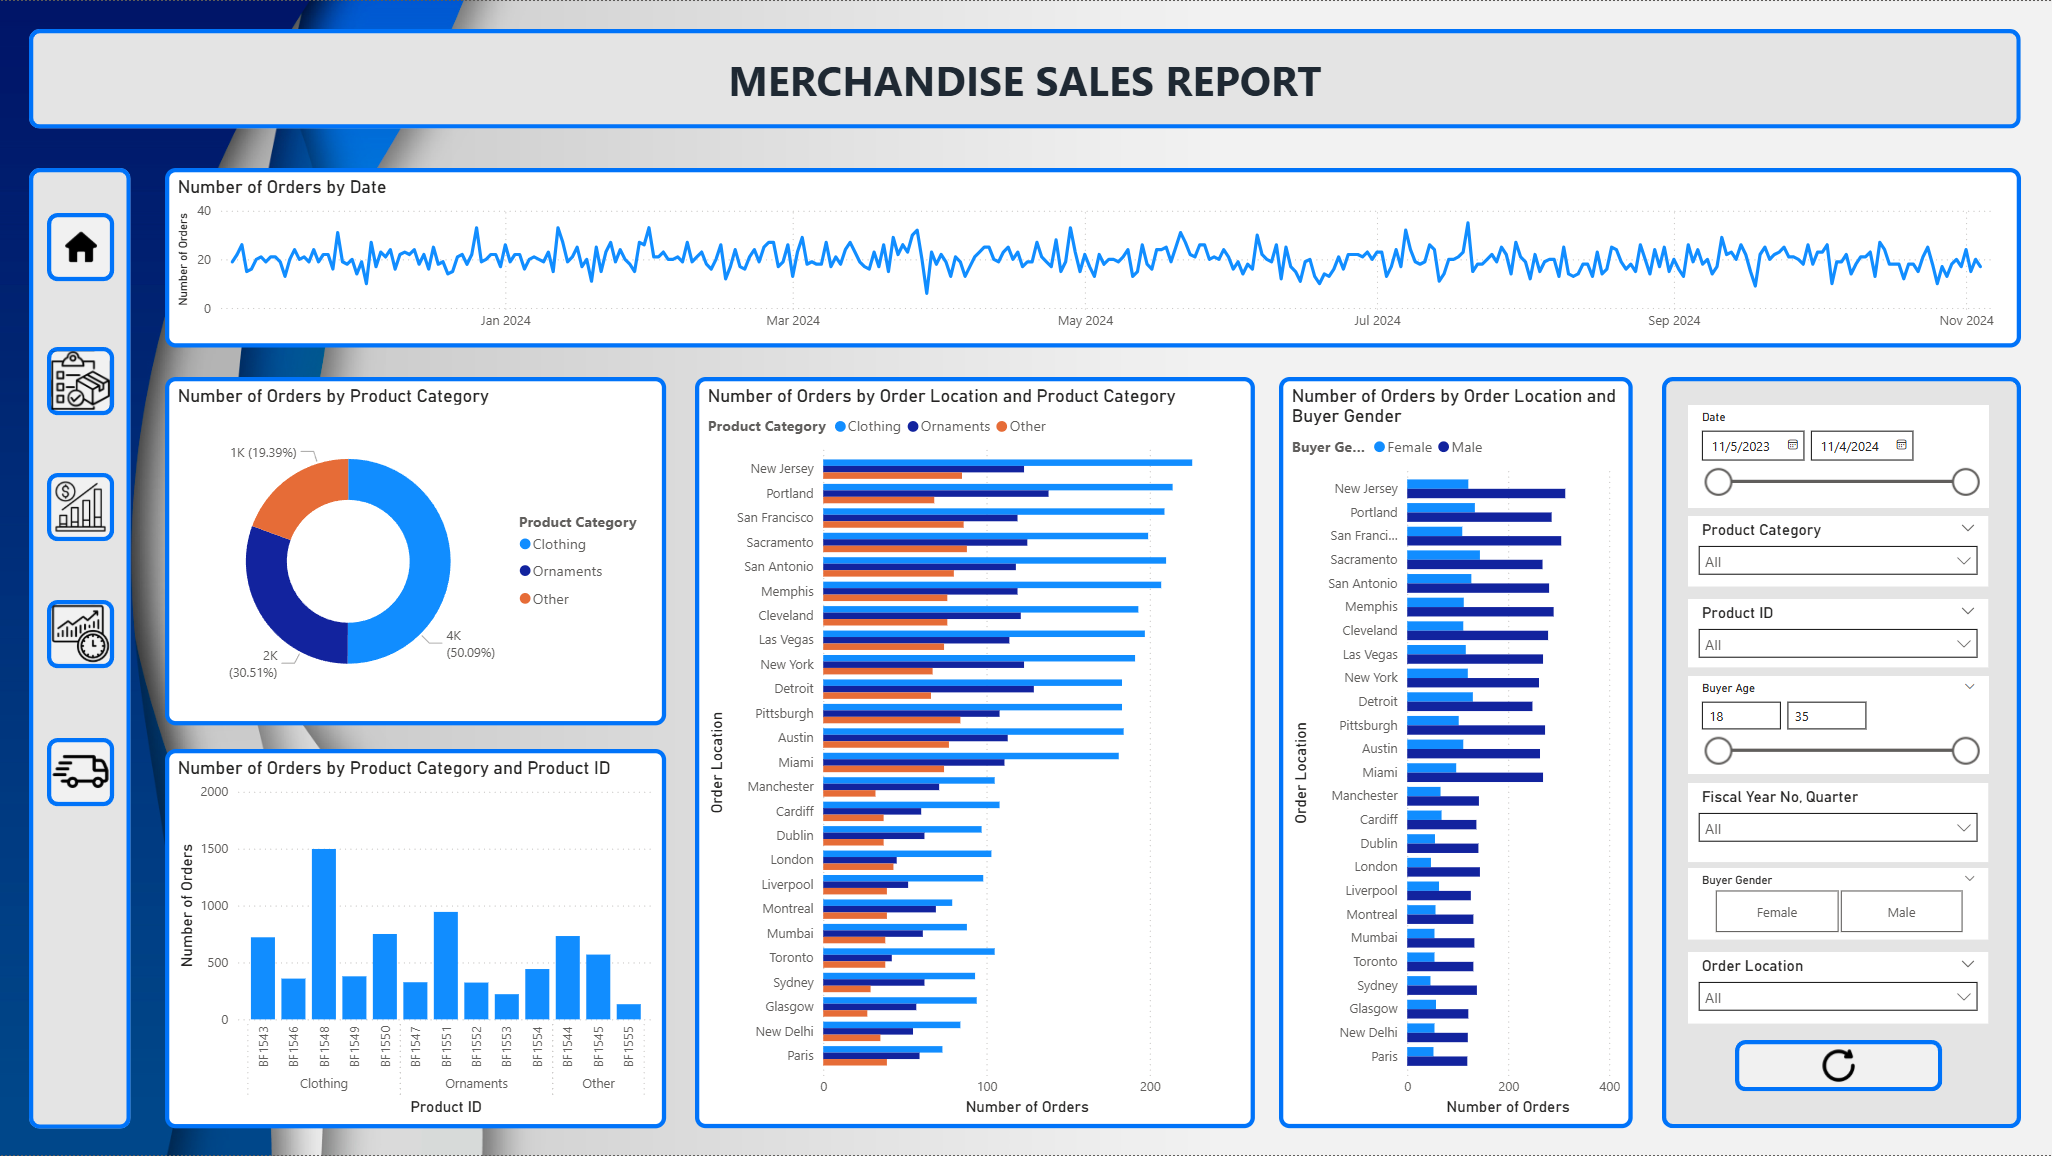

What the dashboard file says about the page in this screenshot:
{"tool":"powerbi","page":{"name":"Home","canvas":[1920,1080],"ordinal":0},"visuals":[{"type":"shape","box":[27.5,26.5,1864,93.3],"z":0},{"type":"shape","box":[27.5,156.1,95.2,899.1],"z":1000},{"type":"actionButton","box":[44.2,198.3,62.8,63.8],"z":2000},{"type":"actionButton","box":[44.2,323.9,62.8,63.8],"z":3000},{"type":"actionButton","box":[44.2,441.7,62.8,63.8],"z":4000},{"type":"actionButton","box":[44.2,560.5,62.8,63.8],"z":5000},{"type":"actionButton","box":[44.2,690.1,62.8,63.8],"z":6000},{"type":"lineChart","fields":{"Category":["Calendar_454.Date"],"Y":["Sales.Number of Orders"]},"box":[154,156,1737,168],"z":7000},{"type":"donutChart","fields":{"Category":["Sales.Product Category"],"Y":["Sales.Number of Orders"]},"box":[154,352,469,326],"z":8000},{"type":"clusteredColumnChart","fields":{"Category":["Sales.Product Category","Sales.Product ID"],"Y":["Sales.Number of Orders"]},"box":[154,700,469,355],"z":9000},{"type":"clusteredBarChart","fields":{"Category":["Sales.Order Location"],"Series":["Sales.Product Category"],"Y":["Sales.Number of Orders"]},"box":[650,352,524,703],"z":10000},{"type":"clusteredBarChart","fields":{"Category":["Sales.Order Location"],"Y":["Sales.Number of Orders"],"Series":["Sales.Buyer Gender"]},"box":[1197,352,331,703],"z":11000},{"type":"shape","box":[1555,352,336,703],"z":12000},{"type":"slicer","fields":{"Values":["Calendar_454.Date"]},"box":[1580,378,281,96],"z":13000},{"type":"slicer","fields":{"Values":["Sales.Product Category"]},"box":[1580,482,281,66],"z":14000},{"type":"slicer","fields":{"Values":["Sales.Product ID"]},"box":[1580,560,281,64],"z":15000},{"type":"slicer","fields":{"Values":["Sales.Buyer Age"]},"box":[1580,632,281,91],"z":16000},{"type":"slicer","fields":{"Values":["Calendar_454.Fiscal Year No","Calendar_454.Quarter"]},"box":[1580,732,281,74],"z":17000},{"type":"slicer","fields":{"Values":["Sales.Buyer Gender"]},"box":[1580,811,281,67],"z":18000},{"type":"slicer","fields":{"Values":["Sales.Order Location"]},"box":[1580,890,281,67],"z":19000},{"type":"actionButton","box":[1624,972,194,48],"z":20000}]}

Visuals, with their boxes in screenshot pixels (x1, y1, x2, y2), scaled from the page's 1920x1080 canvas onto the 2052x1156 screenshot:
shape: box(29, 28, 2022, 128)
shape: box(29, 167, 131, 1129)
actionButton: box(47, 212, 114, 281)
actionButton: box(47, 347, 114, 415)
actionButton: box(47, 473, 114, 541)
actionButton: box(47, 600, 114, 668)
actionButton: box(47, 739, 114, 807)
lineChart - Calendar_454.Date x Sales.Number of Orders: box(165, 167, 2021, 347)
donutChart - Sales.Product Category x Sales.Number of Orders: box(165, 377, 666, 726)
clusteredColumnChart - Sales.Product Category x Sales.Product ID: box(165, 749, 666, 1129)
clusteredBarChart - Sales.Order Location x Sales.Product Category: box(695, 377, 1255, 1129)
clusteredBarChart - Sales.Order Location x Sales.Number of Orders: box(1279, 377, 1633, 1129)
shape: box(1662, 377, 2021, 1129)
slicer - Calendar_454.Date: box(1689, 405, 1989, 507)
slicer - Sales.Product Category: box(1689, 516, 1989, 587)
slicer - Sales.Product ID: box(1689, 599, 1989, 668)
slicer - Sales.Buyer Age: box(1689, 676, 1989, 774)
slicer - Calendar_454.Fiscal Year No x Calendar_454.Quarter: box(1689, 784, 1989, 863)
slicer - Sales.Buyer Gender: box(1689, 868, 1989, 940)
slicer - Sales.Order Location: box(1689, 953, 1989, 1024)
actionButton: box(1736, 1040, 1943, 1092)
